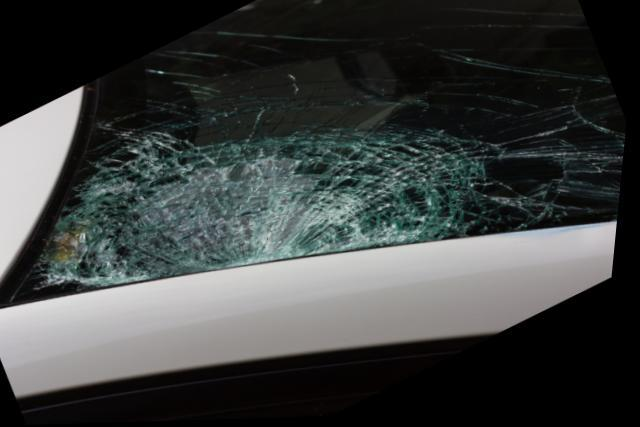glass shatter: (0, 0, 629, 309)
